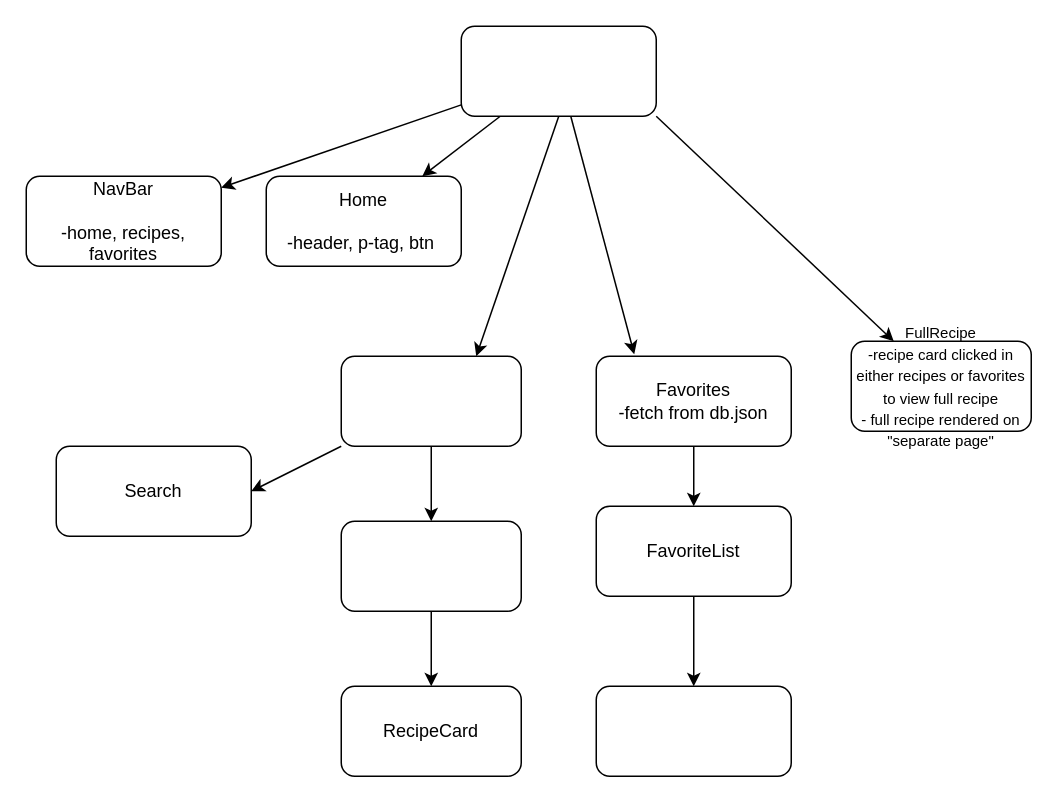
Some shapes in this 1058 by 803 pixel diagram are drawn without their labels. Each missing label, with the centre of its shape:
App: the point at 558,70
FavoriteCard: the point at 693,730
RecipeList - initial rendering of 25ish cards: the point at 430,565
Recipes -fetch from API: the point at 430,400
